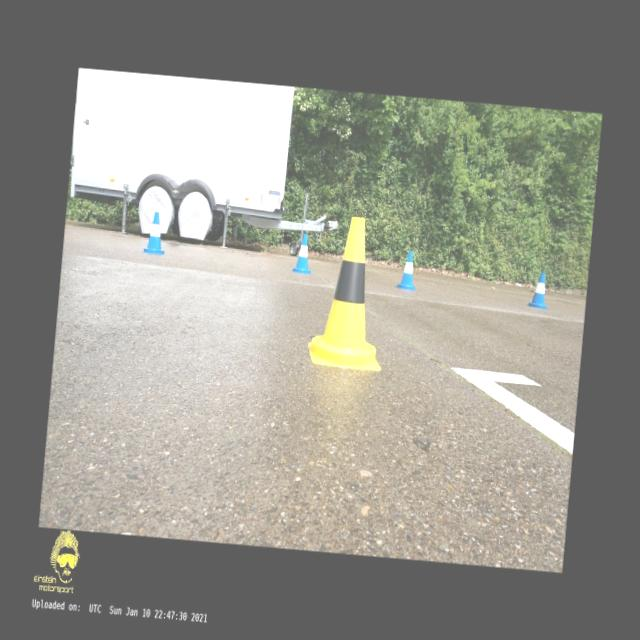blue_cone: (143, 212, 167, 254), (526, 271, 550, 309), (292, 232, 314, 273), (396, 250, 418, 290)
yellow_cone: (306, 214, 393, 370)
